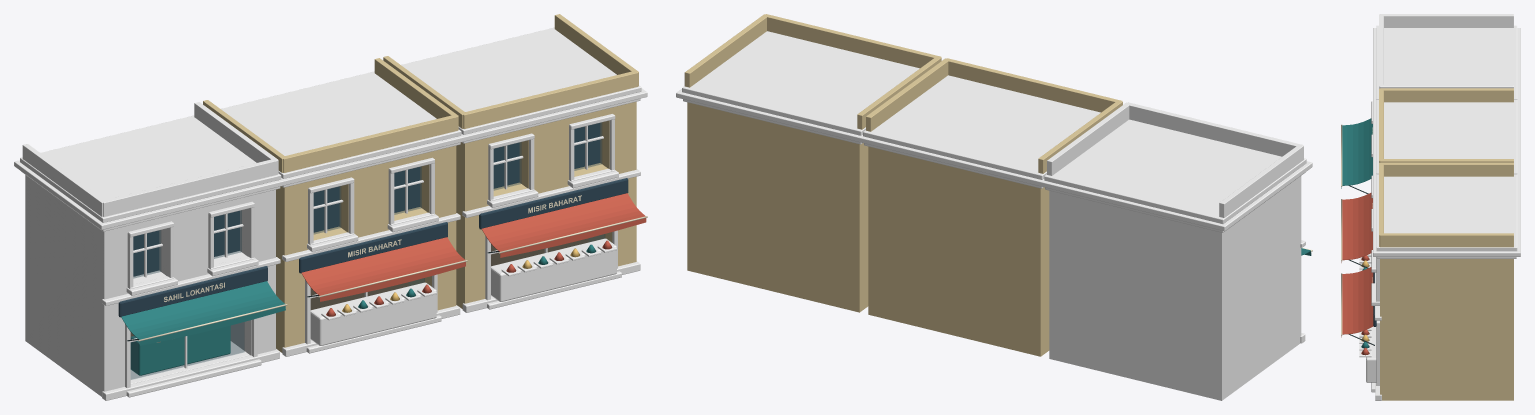
File: DistrictBlock_1_2.glb
3 renders of one model, left to right at view 1: azimuth 30°, elevation 25°; view 2: azimuth 150°, elevation 25°; view 3: azimuth 270°, elevation 25°, orthographic. The views are drawn at different scales.
Parts seen in each view (by area): view 1: RK_DistrictBlock_1_2_LC_Lime, RK_DistrictBlock_1_2_LC_Ochre, RK_DistrictBlock_1_2_LC_Coral, RK_DistrictBlock_1_2_LC_Ink, RK_DistrictBlock_1_2_LC_Wood, RK_DistrictBlock_1_2_LC_Red, RK_DistrictBlock_1_2_LC_Teal, RK_DistrictBlock_1_2_LC_Glass, RK_DistrictBlock_1_2_LC_Canvas, RK_DistrictBlock_1_2_LC_Interior; view 2: RK_DistrictBlock_1_2_LC_Ochre, RK_DistrictBlock_1_2_LC_Coral, RK_DistrictBlock_1_2_LC_Lime; view 3: RK_DistrictBlock_1_2_LC_Lime, RK_DistrictBlock_1_2_LC_Ochre, RK_DistrictBlock_1_2_LC_Red, RK_DistrictBlock_1_2_LC_Coral, RK_DistrictBlock_1_2_LC_Teal, RK_DistrictBlock_1_2_LC_Wood, RK_DistrictBlock_1_2_LC_Canvas.
Part boxes in pixels (box(x1,y1,x2,y2)): RK_DistrictBlock_1_2_LC_Lime: box(14, 27, 647, 400); RK_DistrictBlock_1_2_LC_Ochre: box(203, 14, 638, 352); RK_DistrictBlock_1_2_LC_Coral: box(22, 102, 278, 396); RK_DistrictBlock_1_2_LC_Ink: box(118, 123, 628, 317); RK_DistrictBlock_1_2_LC_Wood: box(130, 126, 616, 384); RK_DistrictBlock_1_2_LC_Red: box(301, 193, 646, 316); RK_DistrictBlock_1_2_LC_Teal: box(121, 244, 596, 375); RK_DistrictBlock_1_2_LC_Glass: box(131, 122, 604, 379); RK_DistrictBlock_1_2_LC_Canvas: box(138, 195, 647, 342); RK_DistrictBlock_1_2_LC_Interior: box(130, 238, 588, 336); RK_DistrictBlock_1_2_LC_Ochre: box(684, 14, 1122, 356); RK_DistrictBlock_1_2_LC_Coral: box(1047, 102, 1303, 400); RK_DistrictBlock_1_2_LC_Lime: box(676, 31, 1312, 343); RK_DistrictBlock_1_2_LC_Lime: box(1359, 25, 1520, 400); RK_DistrictBlock_1_2_LC_Ochre: box(1379, 88, 1513, 400); RK_DistrictBlock_1_2_LC_Red: box(1341, 193, 1373, 355); RK_DistrictBlock_1_2_LC_Coral: box(1379, 14, 1513, 88); RK_DistrictBlock_1_2_LC_Teal: box(1341, 118, 1372, 348); RK_DistrictBlock_1_2_LC_Wood: box(1366, 256, 1376, 382); RK_DistrictBlock_1_2_LC_Canvas: box(1341, 124, 1372, 335).
Bounding box in the file's own units: 19.1 × 6.57 × 6.44.
